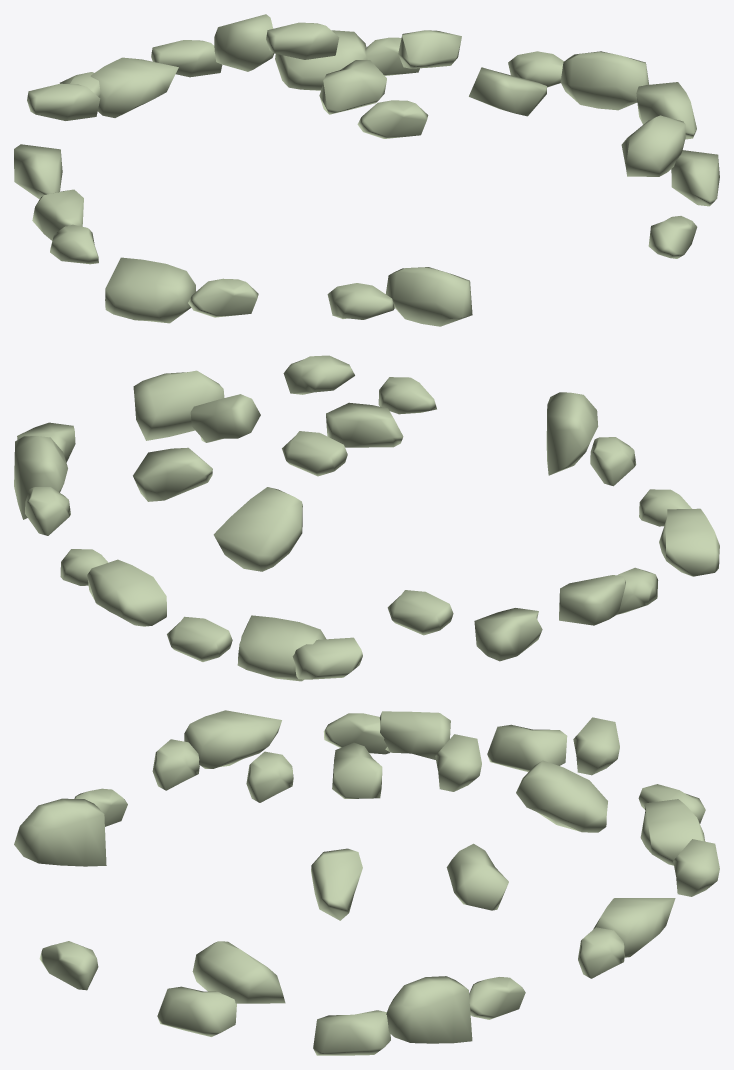
File: Rubble_01C_Lod0.fbx
3 renders of one model, top to bottom at view 1: azimuth 30°, elevation 25°; view 2: azimuth 150°, elevation 25°; view 3: azimuth 270°, elevation 25°, orthographic. The views are drawn at different scales.
Visible parts, largest first — view 1: Rubble_01C_Lod0; view 2: Rubble_01C_Lod0; view 3: Rubble_01C_Lod0.
Boxes of the visible parts, x1,y1,x2,y2 form: Rubble_01C_Lod0: (14,14,719,326); Rubble_01C_Lod0: (14,355,719,681); Rubble_01C_Lod0: (14,710,719,1055).
Size of the model in its own units: 291 by 64.81 by 269.
